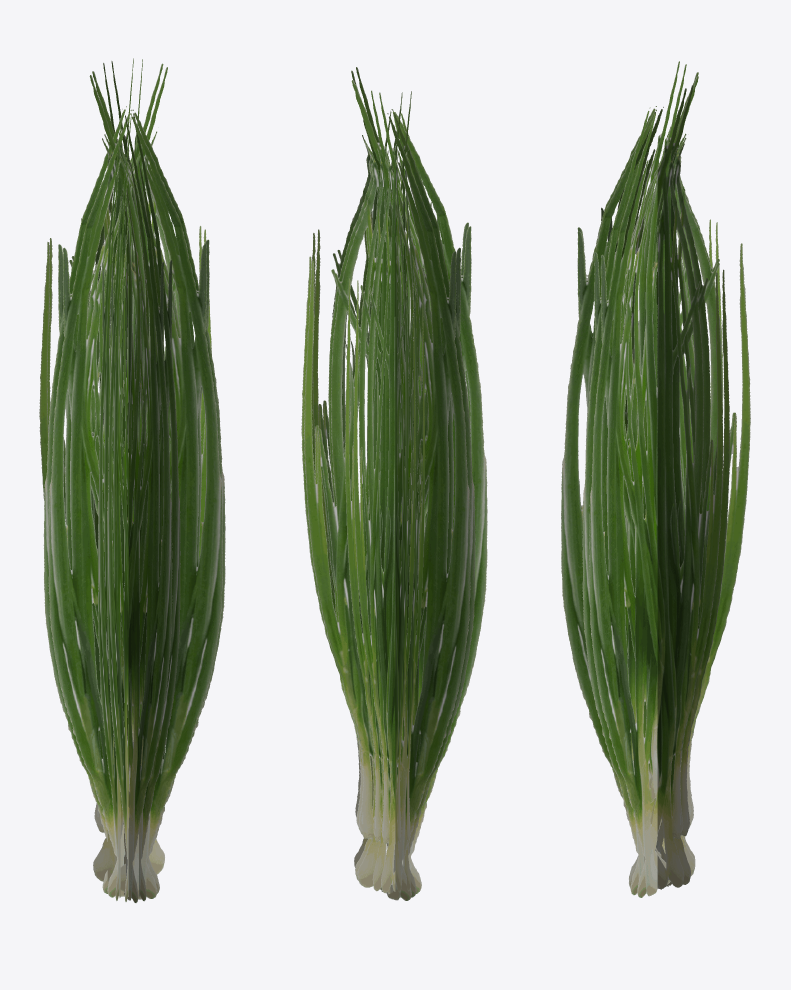
File: Chives.fbx
3 views of the same model, side by side, from view 1: azimuth 30°, elevation 25°; view 2: azimuth 150°, elevation 25°; view 3: azimuth 270°, elevation 25° (orthographic).
Parts seen in each view (by area): view 1: Chives_Edited; view 2: Chives_Edited; view 3: Chives_Edited.
Part boxes in pixels (bbox=[...]): Chives_Edited: bbox=[39, 58, 225, 902]; Chives_Edited: bbox=[301, 67, 487, 900]; Chives_Edited: bbox=[561, 61, 750, 897].
Size of the model in its own units: 49.42 by 197 by 49.42.
